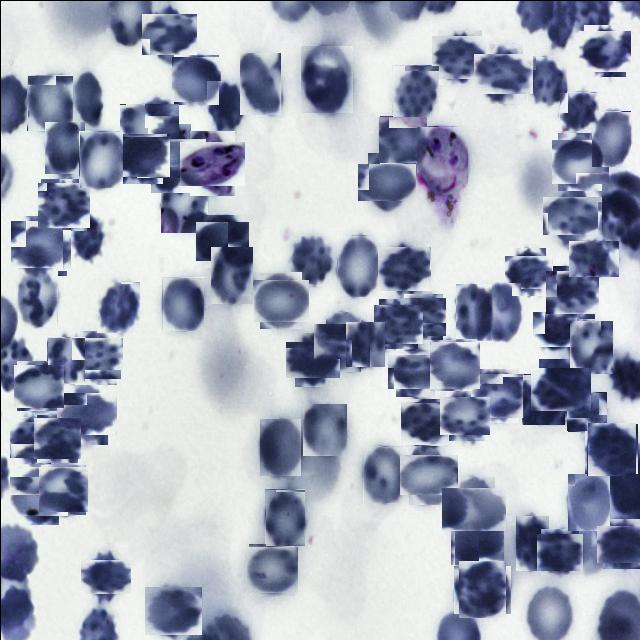red blood cell: (300, 45, 352, 112), (12, 217, 68, 273), (121, 100, 176, 155), (160, 169, 207, 232), (144, 130, 198, 184), (446, 482, 500, 536), (146, 583, 199, 636), (60, 388, 112, 440), (534, 362, 586, 414), (456, 563, 508, 615), (585, 422, 636, 474), (391, 64, 438, 120), (336, 234, 378, 296), (240, 52, 282, 114), (26, 74, 72, 130), (476, 282, 520, 340), (554, 136, 604, 187), (362, 445, 406, 502), (78, 130, 122, 187), (434, 32, 484, 82), (477, 48, 527, 98), (116, 130, 166, 180), (546, 190, 596, 240), (566, 472, 609, 530), (247, 544, 296, 594), (13, 470, 62, 520), (403, 450, 452, 500), (258, 418, 300, 476), (379, 243, 428, 292), (429, 340, 478, 389), (38, 180, 88, 228), (210, 246, 252, 303), (568, 319, 612, 373), (17, 267, 57, 326), (472, 371, 520, 420), (452, 518, 501, 566), (548, 267, 596, 316), (71, 334, 119, 382), (580, 26, 628, 74), (362, 157, 410, 205), (256, 276, 304, 324), (378, 115, 426, 163), (172, 55, 220, 103), (38, 465, 86, 513), (144, 10, 192, 58), (96, 280, 140, 332), (302, 403, 346, 455), (264, 488, 304, 545), (161, 276, 203, 330), (590, 110, 630, 166), (318, 318, 366, 364), (14, 362, 62, 408), (521, 373, 564, 424), (206, 80, 247, 133), (401, 399, 447, 445), (290, 336, 336, 382), (392, 346, 438, 392), (199, 218, 245, 264), (289, 236, 331, 286), (455, 284, 491, 342), (44, 121, 84, 173), (442, 392, 487, 438), (34, 416, 79, 460), (526, 55, 566, 104), (376, 302, 420, 346), (599, 520, 640, 565), (515, 515, 548, 570), (401, 295, 444, 337), (568, 240, 618, 276), (344, 321, 384, 366), (84, 556, 126, 598), (538, 530, 580, 572), (46, 336, 84, 382), (508, 251, 548, 292), (534, 307, 574, 348), (12, 419, 52, 460), (70, 214, 104, 261), (74, 70, 103, 125), (558, 91, 598, 130), (567, 392, 606, 431)
trophozoite: (415, 125, 467, 201), (184, 135, 239, 190)
